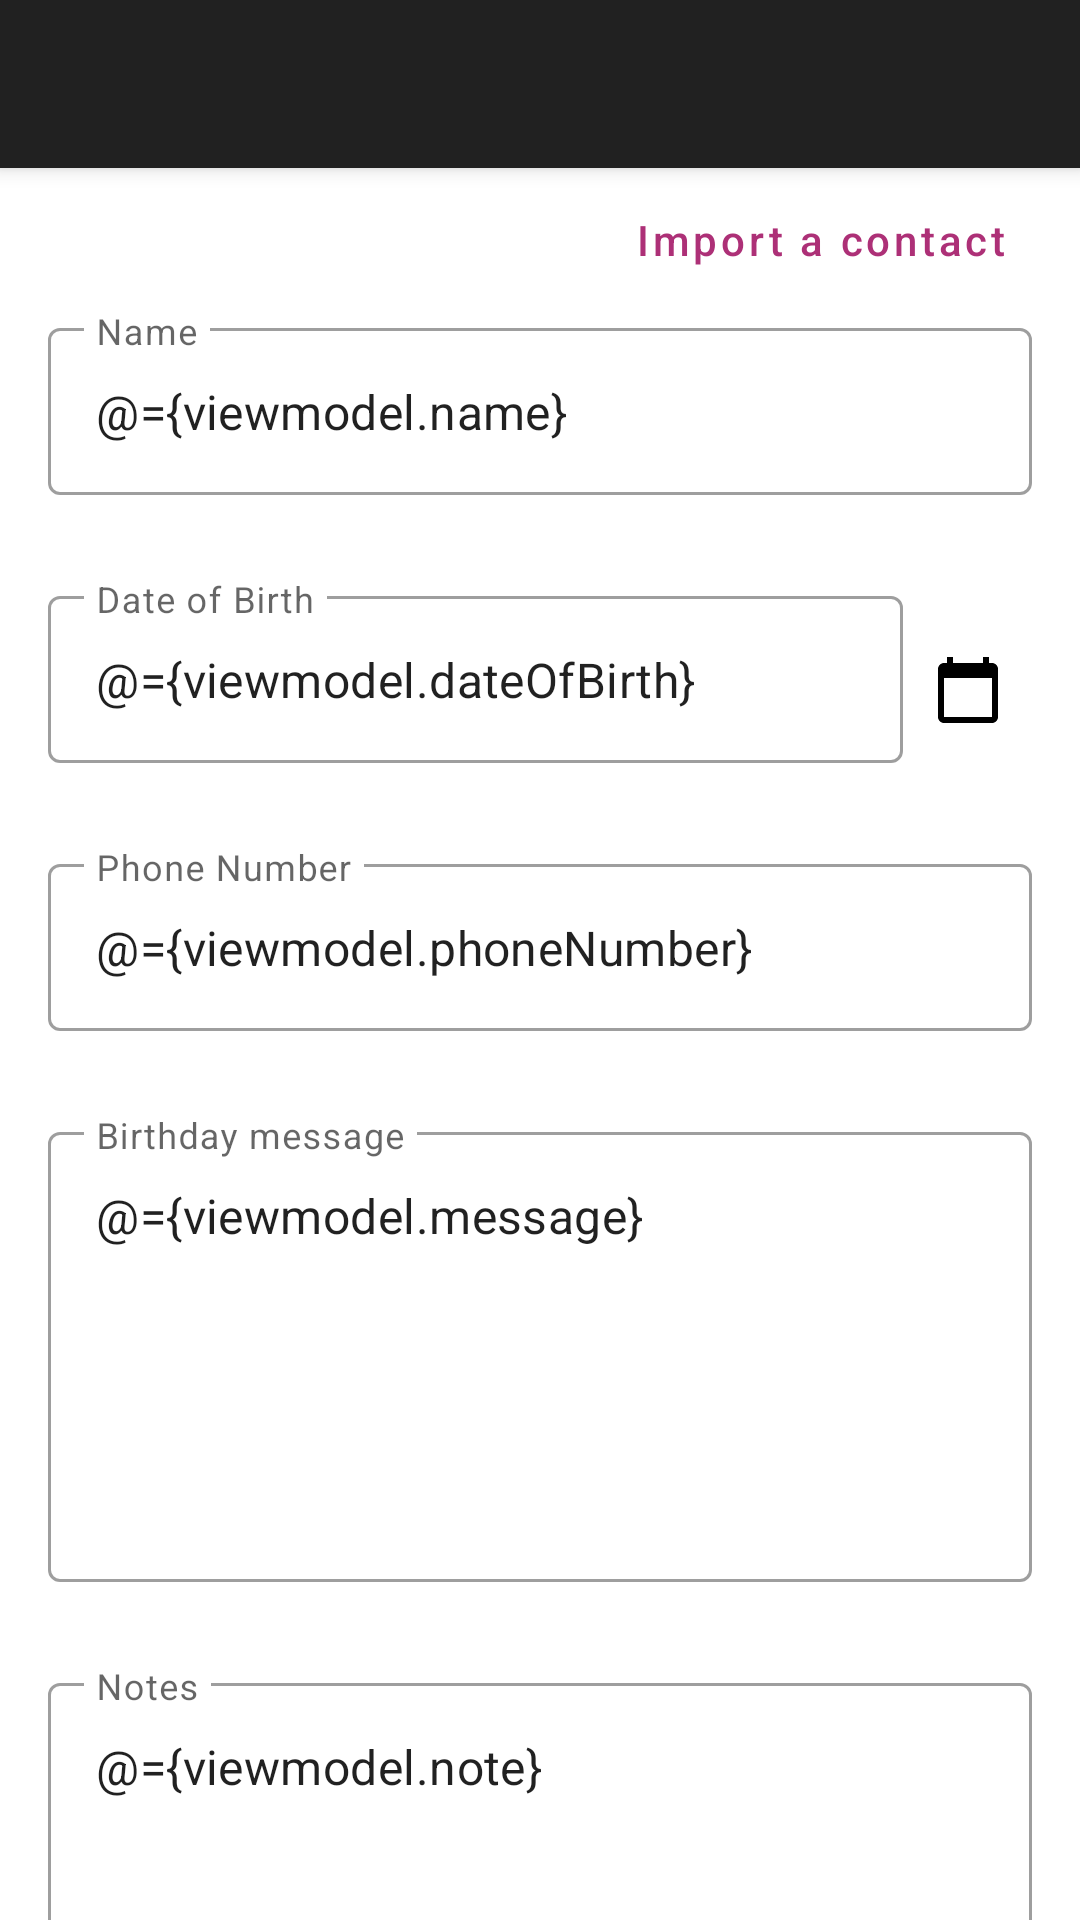

Where icons sit on this 1080px×1920px app screen, as (x1, y1, x2, y2):
calendar: (938, 657, 998, 723)
